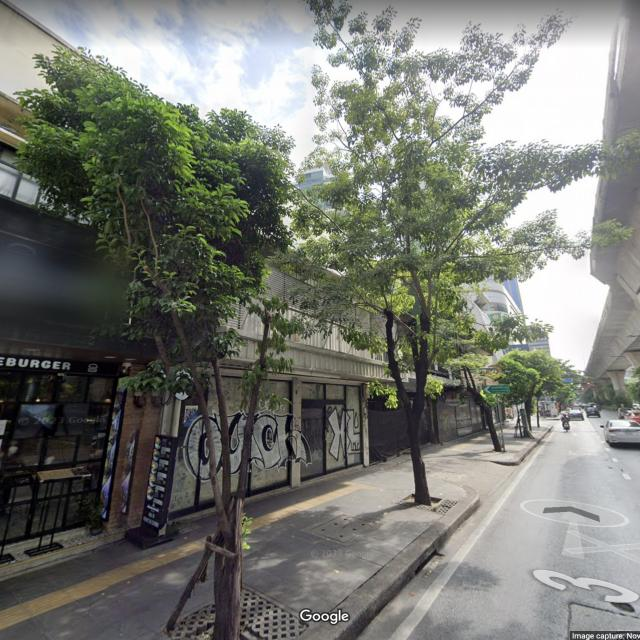tree: (10, 38, 318, 638), (277, 0, 614, 510), (436, 312, 528, 459), (492, 346, 574, 440)
